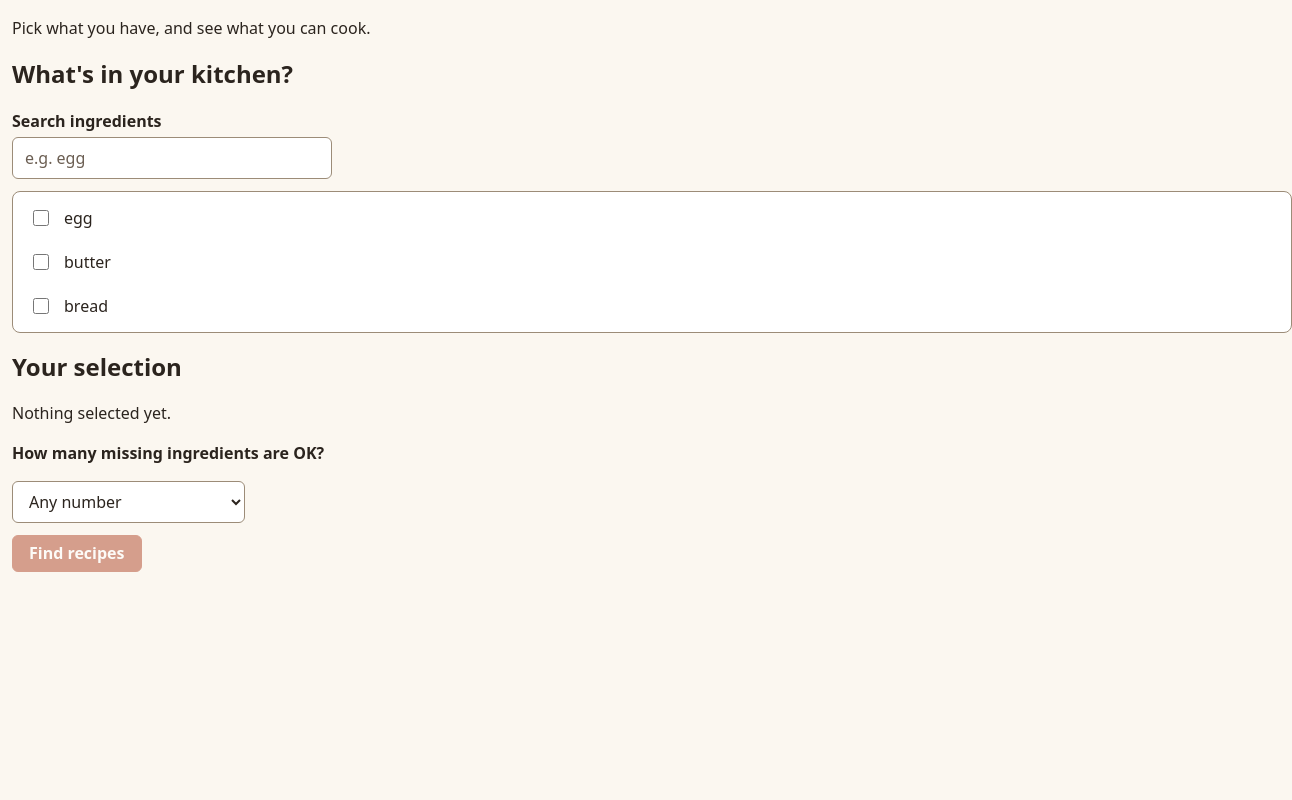
Test case: HomePage with the real search hook › sends the chosen maxMissing with the search
The width and height of the screenshot is (1292, 800).
Click the checkbox labelled "egg" at (41, 218), box [33, 210, 49, 226]
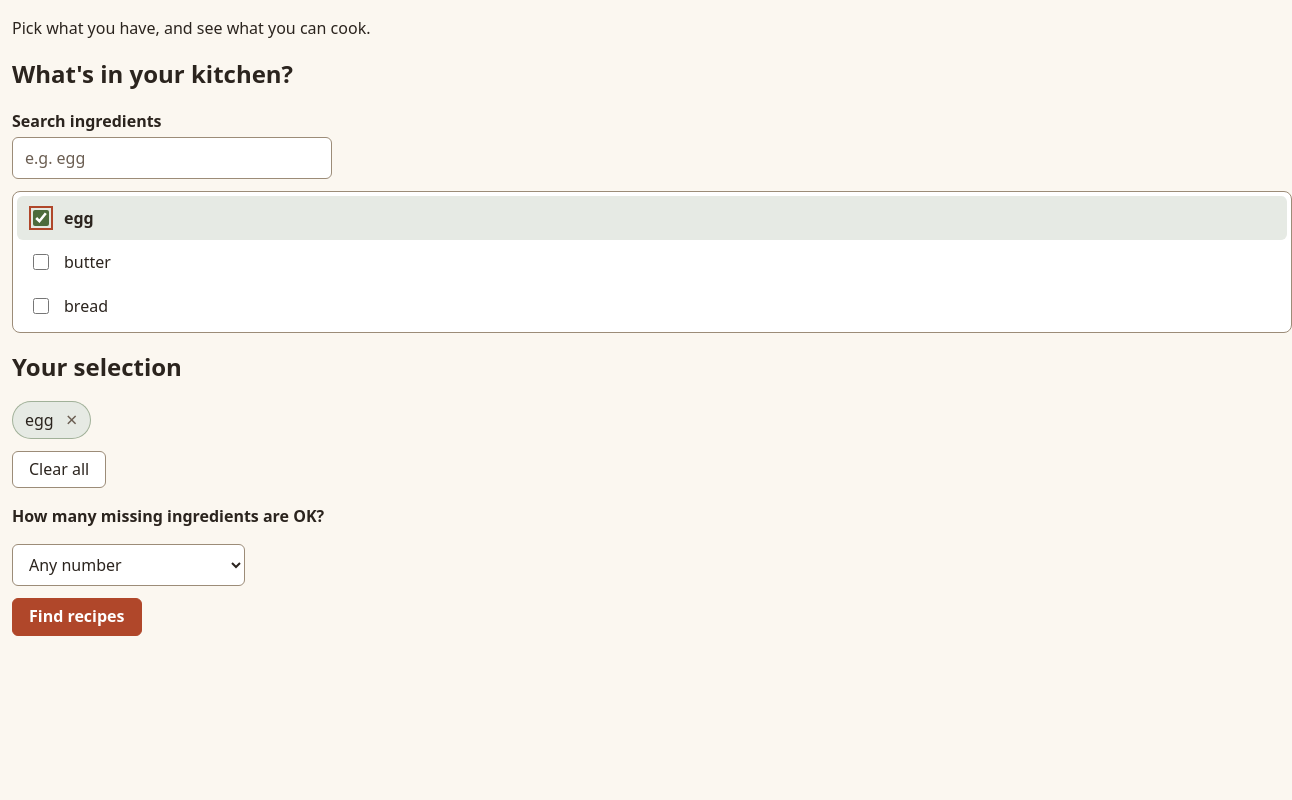
Select "None (I can make it now)" in the dropdown labelled "How many missing ingredients are OK?" at (128, 565), box [12, 544, 245, 586]
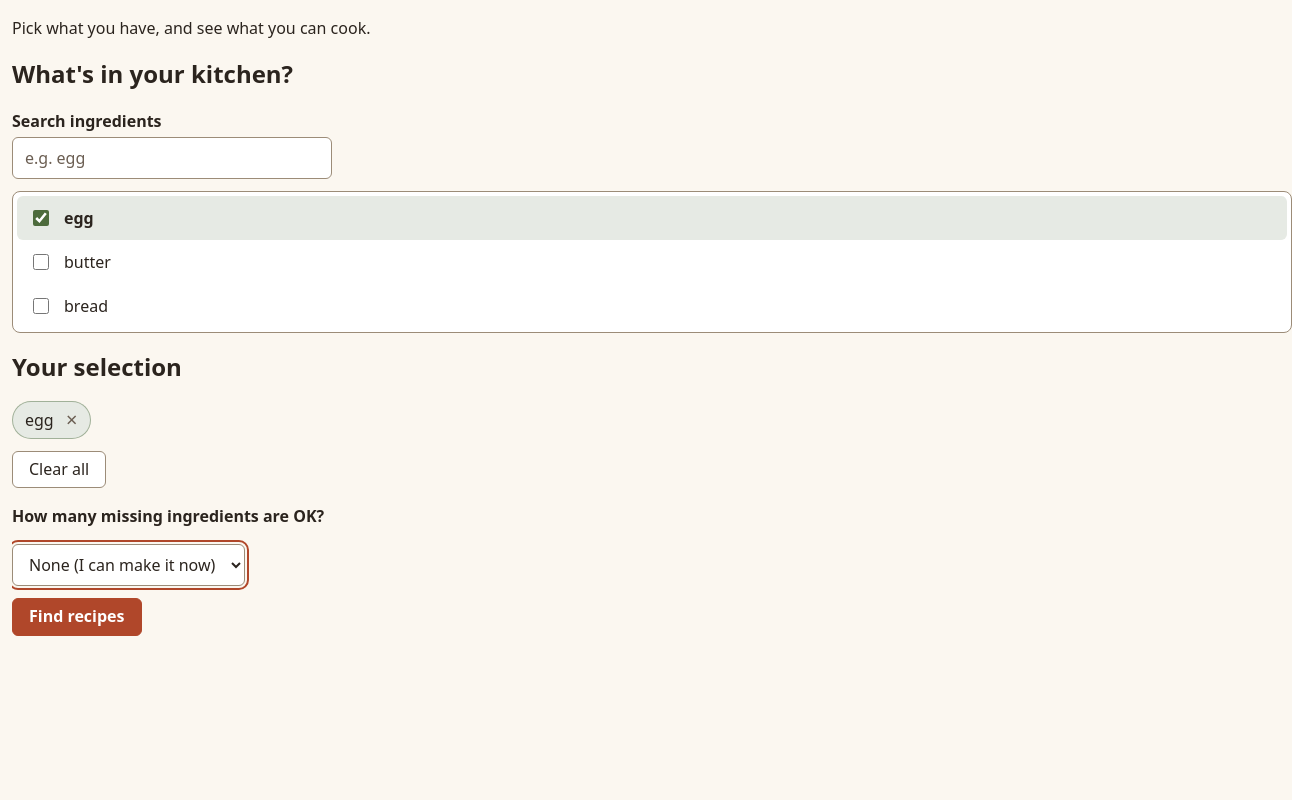
Click the button "Find recipes" at (77, 617), box [12, 598, 142, 636]
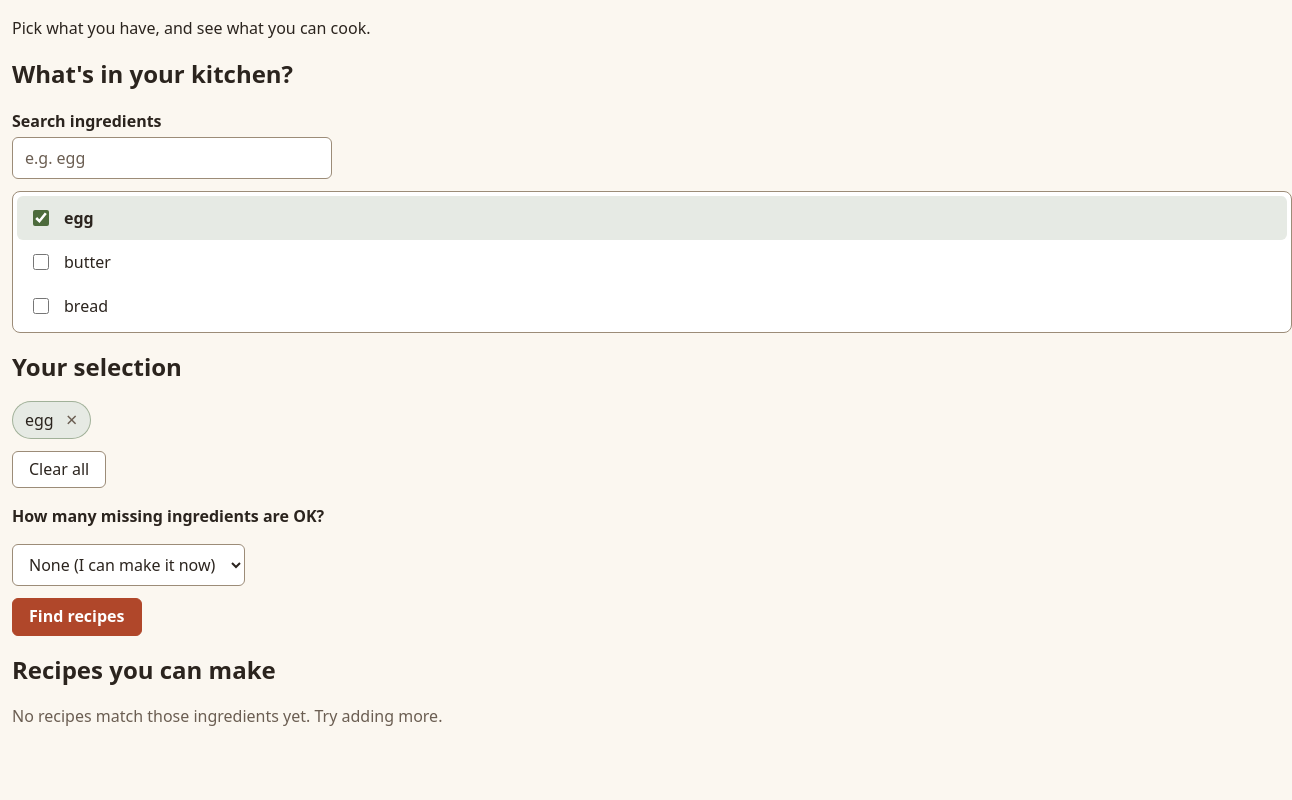
Now the text "No recipes match those ingredients yet. Try adding more." is shown, box [12, 705, 442, 727]
